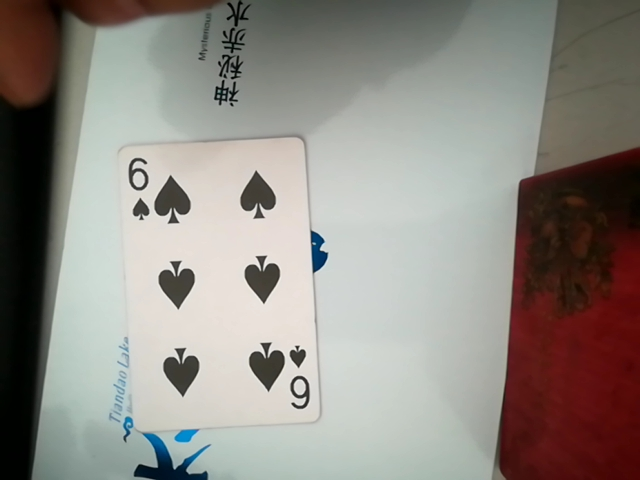ht 6: (117, 131, 325, 433)
